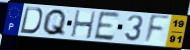3: (124, 14, 144, 43)
D: (19, 6, 44, 35)
E: (93, 11, 122, 42)
F: (143, 14, 171, 45)
H: (70, 10, 97, 41)
Q: (41, 8, 68, 37)
